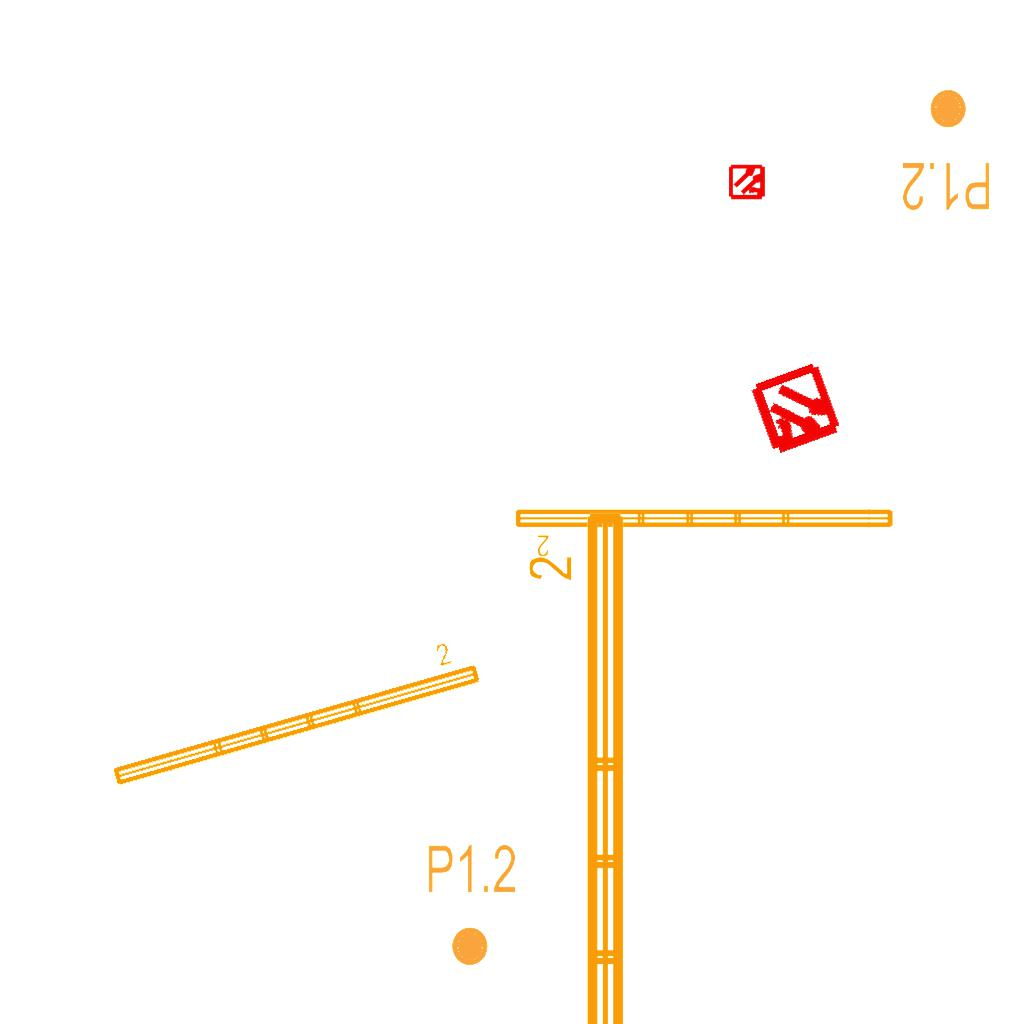Ambulanz_Pendelleuchte_LED: (98, 632, 487, 794), (524, 504, 636, 1024), (511, 503, 898, 559)
Downlight_LED_Einbauleuchten_Flur: (425, 841, 518, 969), (900, 86, 993, 214)
OT_Multisensormelder_(Kombination_RMO_WMD): (724, 338, 869, 483), (720, 154, 776, 210)
